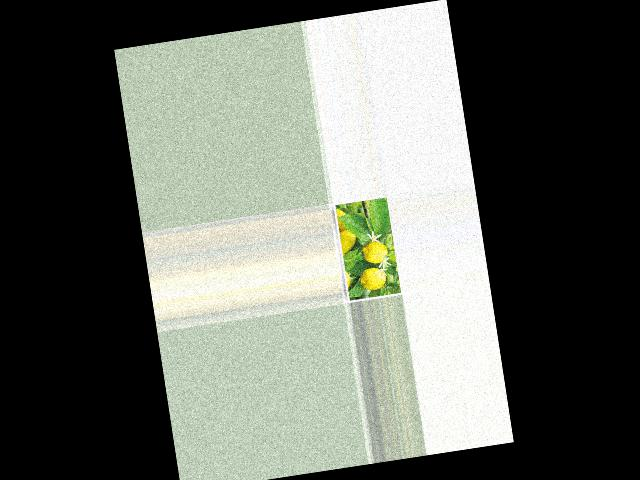lemon: (360, 240, 390, 265)
